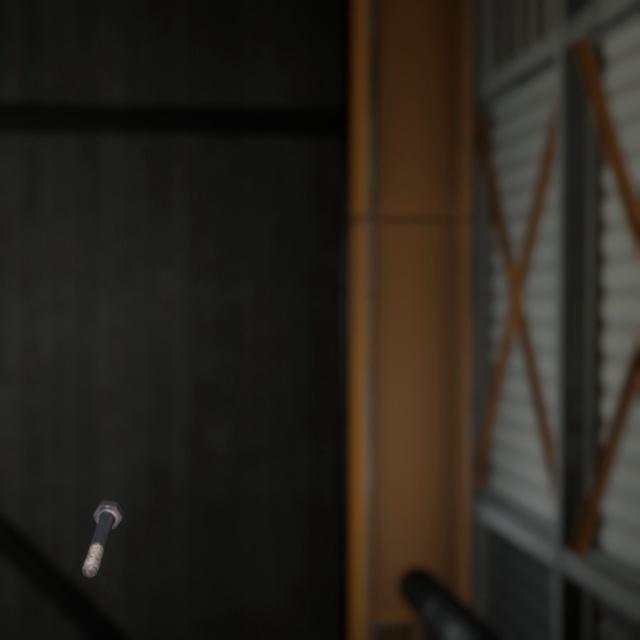bolt: (77, 474, 128, 559)
